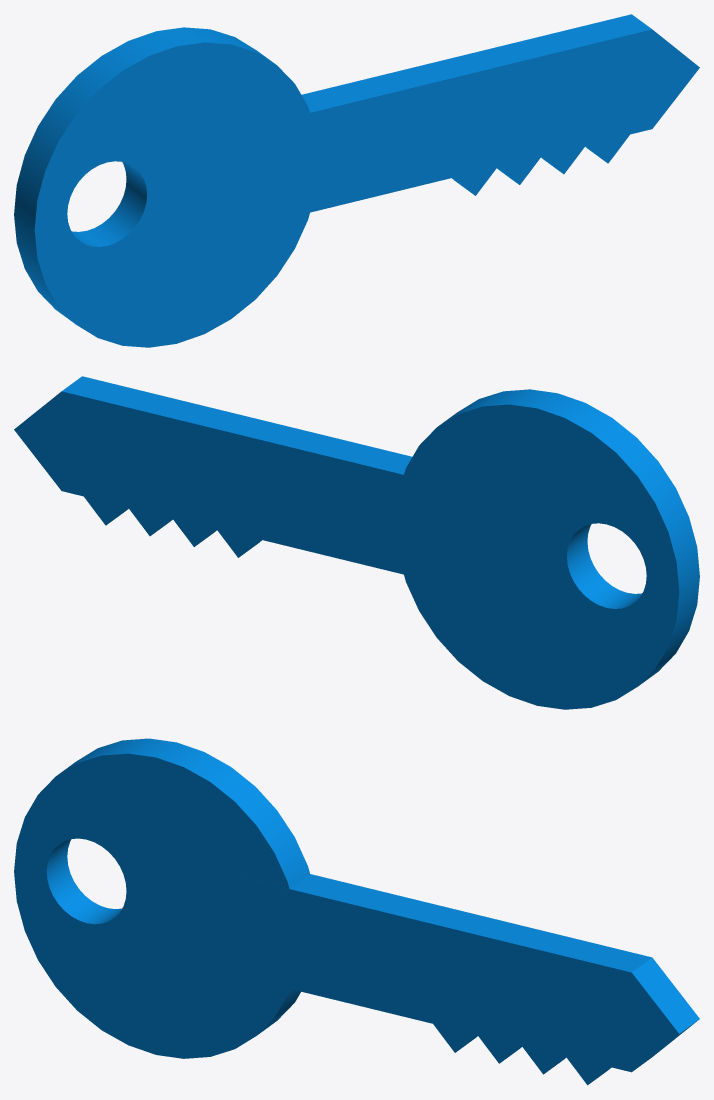
The model's file is Key.fbx.
3 views of the same model, one above another, from view 1: azimuth 30°, elevation 25°; view 2: azimuth 150°, elevation 25°; view 3: azimuth 330°, elevation 25° (orthographic).
Parts seen in each view (by area): view 1: Key; view 2: Key; view 3: Key.
Boxes of the visible parts, <box> form: Key: <box>14,14,699,347</box>; Key: <box>14,376,699,709</box>; Key: <box>14,738,699,1085</box>.
Size of the model in its own units: 393 by 168 by 21.16.
